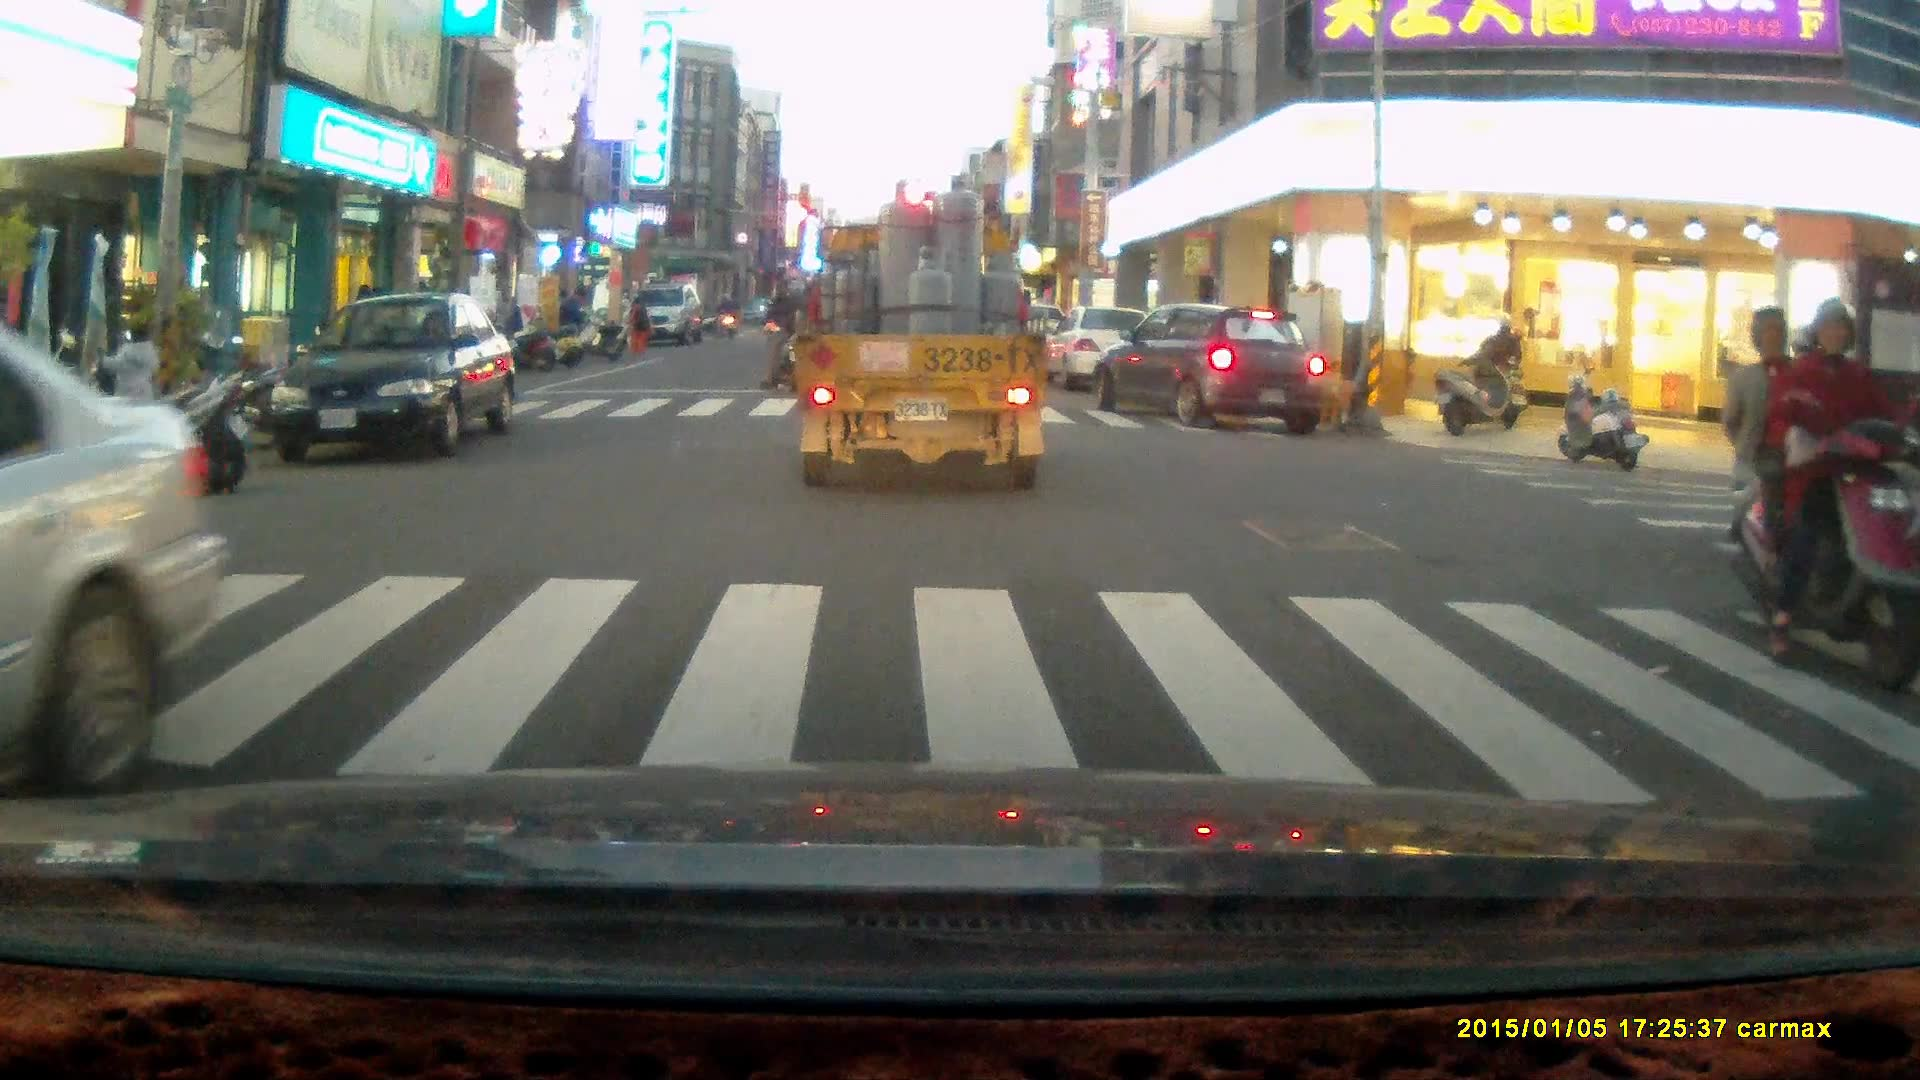pedestrian: (99, 318, 162, 464), (557, 285, 586, 352), (625, 296, 648, 356)
rider: (1724, 294, 1920, 693), (759, 263, 816, 392), (1471, 310, 1529, 430)
vehicle: (1, 321, 222, 816), (790, 170, 1056, 491), (275, 292, 517, 461), (1091, 305, 1324, 431), (1044, 307, 1170, 397), (623, 280, 699, 341)
